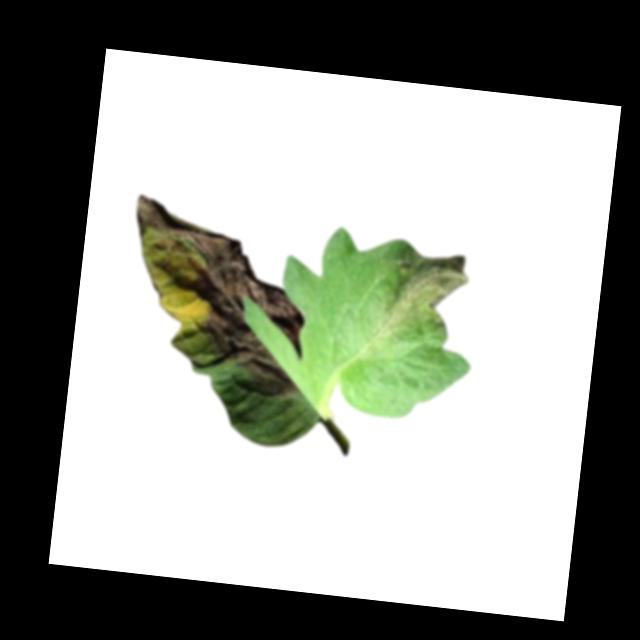Late_blight: (117, 193, 316, 399), (377, 243, 474, 343)
